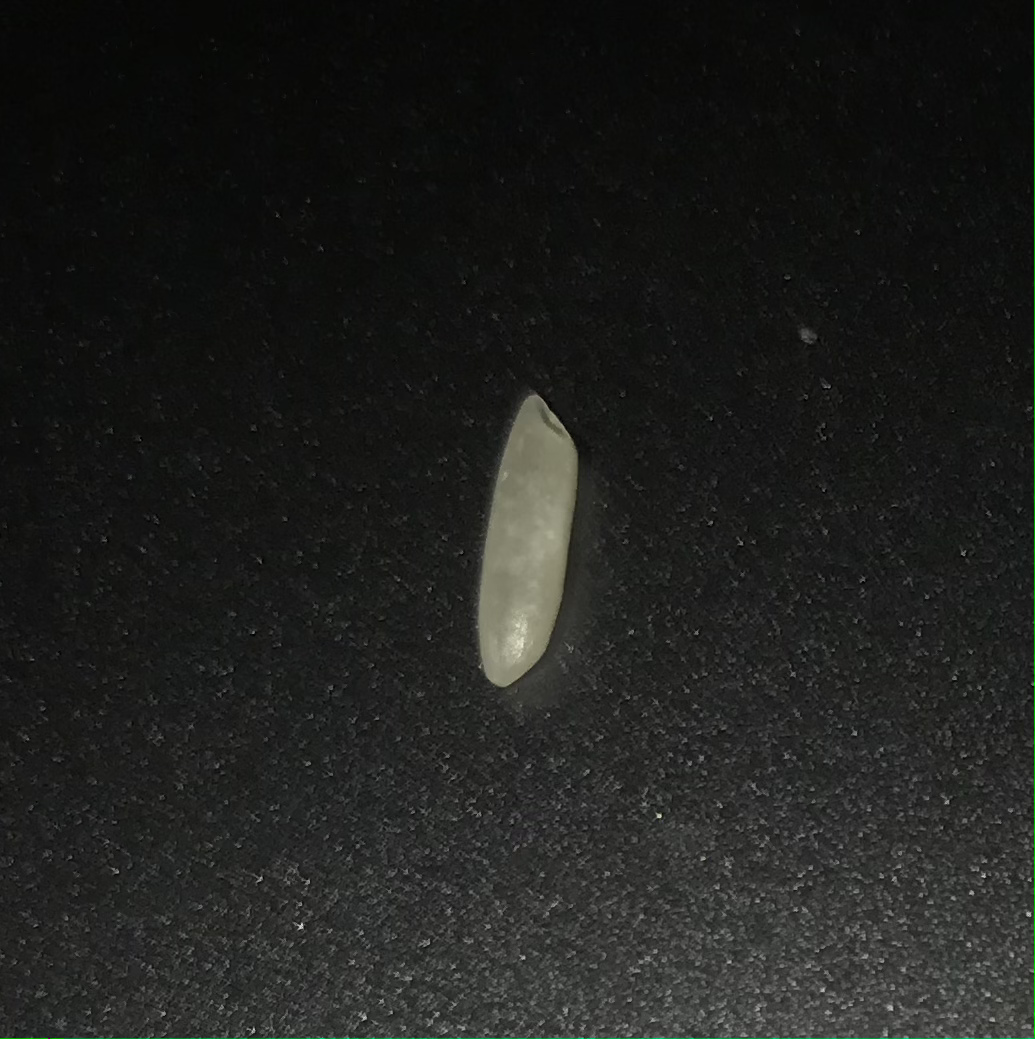Gao Thom My: (446, 351, 609, 719)
